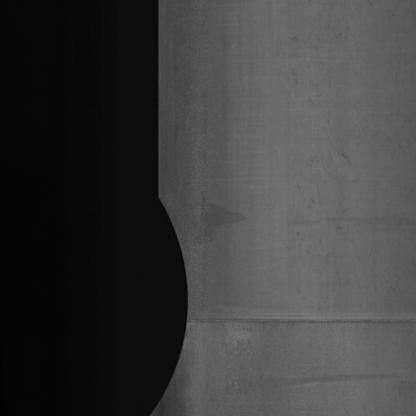crescent_gap: (126, 182, 198, 416)
welding_line: (168, 304, 414, 351)
